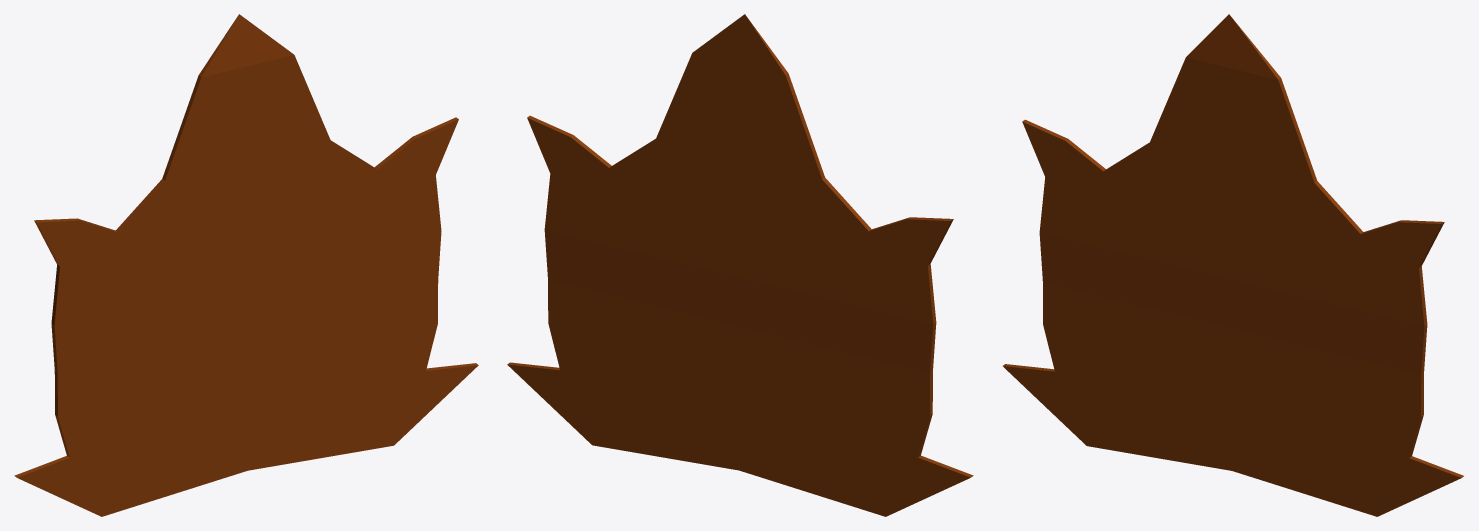
File: Leave_c_01.fbx
3 renders of one model, left to right at view 1: azimuth 30°, elevation 25°; view 2: azimuth 150°, elevation 25°; view 3: azimuth 330°, elevation 25°, orthographic.
Visible parts, largest first — view 1: Leave_c_01_LOD0; view 2: Leave_c_01_LOD0; view 3: Leave_c_01_LOD0.
Boxes of the visible parts, box(x1,y1,x2,y2) form: Leave_c_01_LOD0: box(14, 14, 478, 516); Leave_c_01_LOD0: box(507, 14, 973, 516); Leave_c_01_LOD0: box(1003, 14, 1463, 516).
Size of what is drawn, in the model's own units: 2.42 by 2.33 by 0.0276.
